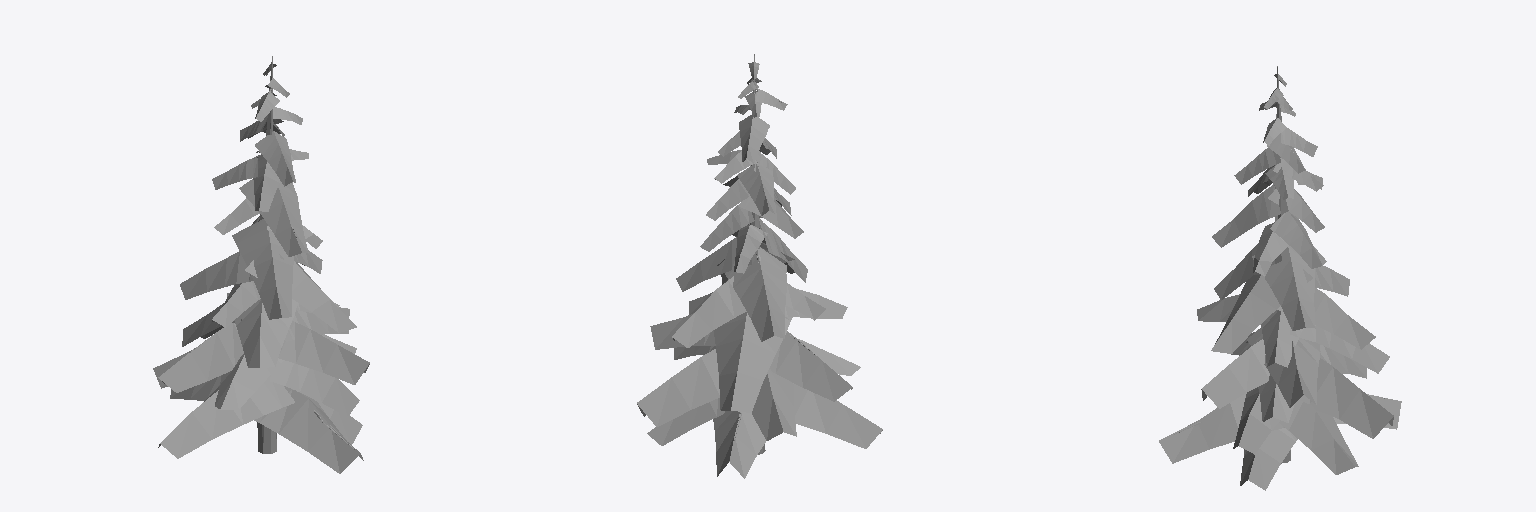
File: fir_tree.obj
The picture shows the model from 3 angles: view 1: azimuth 30°, elevation 25°; view 2: azimuth 150°, elevation 25°; view 3: azimuth 270°, elevation 25°; orthographic projection.
Parts seen in each view (by area): view 1: Cube.1748_Cube.3115; view 2: Cube.1748_Cube.3115; view 3: Cube.1748_Cube.3115.
Part boxes in pixels (x1,y1,x2,y2): Cube.1748_Cube.3115: (153, 56, 369, 473); Cube.1748_Cube.3115: (637, 54, 882, 478); Cube.1748_Cube.3115: (1159, 66, 1401, 490).
Size of the model in its own units: 15.5 by 27.63 by 15.45.